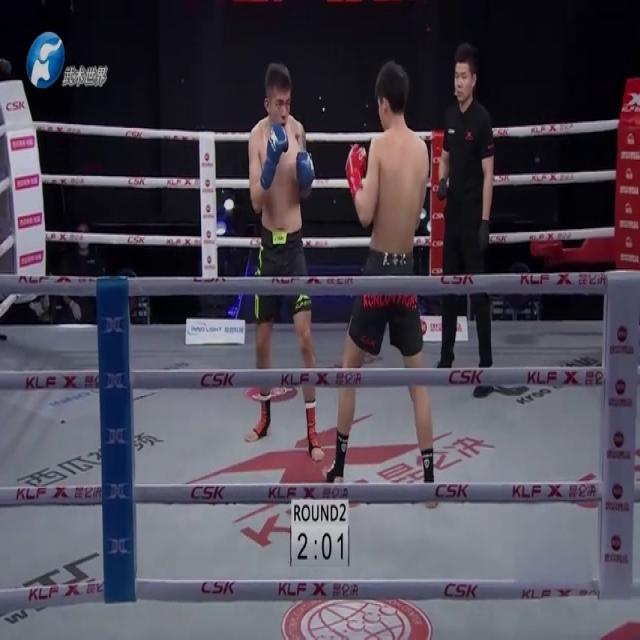fight: (238, 49, 435, 493)
non-fight: (433, 37, 498, 396)
